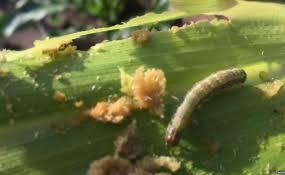fallarmy_worm: (160, 68, 248, 149)
